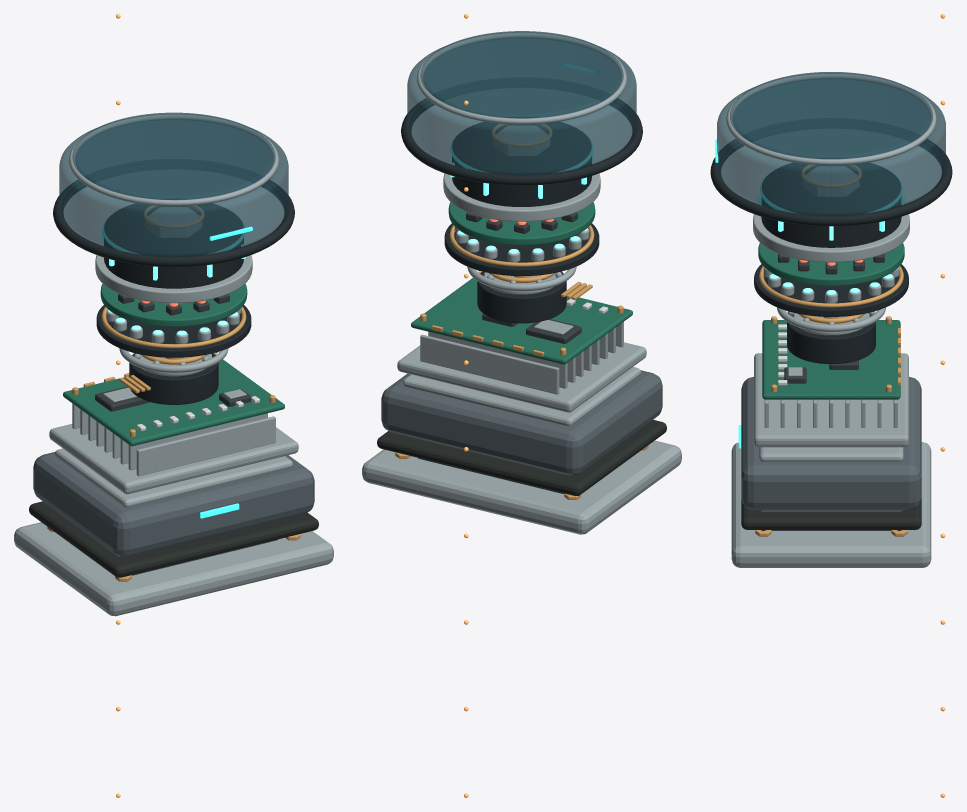
Rendered from lidar-assembled.glb.
3 renders of one model, left to right at view 1: azimuth 30°, elevation 25°; view 2: azimuth 150°, elevation 25°; view 3: azimuth 270°, elevation 25°, orthographic.
Visible parts, largest first — view 1: 烟熏透明圆筒防护罩, 顶部耐磨光学圆盖, 压铸铝下壳主体, CNC 铝合金安装脚, 旋转头黑色光学筒, 六层主控 PCB, 闭孔氟橡胶减振垫, 均热板, 散热鳍片 · 01, 罩体下缘黑色密封框, 底壳内腔台阶, 防护罩上缘压环 (+8 smaller); view 2: 烟熏透明圆筒防护罩, 压铸铝下壳主体, 顶部耐磨光学圆盖, CNC 铝合金安装脚, 旋转头黑色光学筒, 六层主控 PCB, 闭孔氟橡胶减振垫, 均热板, 散热鳍片 · 09, 罩体下缘黑色密封框, 底壳内腔台阶, 接收器载板 (+9 smaller); view 3: 烟熏透明圆筒防护罩, 顶部耐磨光学圆盖, 压铸铝下壳主体, CNC 铝合金安装脚, 均热板, 旋转头黑色光学筒, 六层主控 PCB, 罩体下缘黑色密封框, 闭孔氟橡胶减振垫, 防护罩上缘压环, 接收器载板, 激光器载板 (+6 smaller).
Part boxes in pixels (x1=…): 烟熏透明圆筒防护罩: x1=59, y1=119, x2=288, y2=256; 顶部耐磨光学圆盖: x1=72, y1=112, x2=275, y2=200; 压铸铝下壳主体: x1=33, y1=452, x2=314, y2=557; CNC 铝合金安装脚: x1=14, y1=522, x2=333, y2=616; 旋转头黑色光学筒: x1=104, y1=203, x2=243, y2=288; 六层主控 PCB: x1=63, y1=359, x2=284, y2=446; 闭孔氟橡胶减振垫: x1=29, y1=501, x2=318, y2=577; 均热板: x1=49, y1=424, x2=298, y2=494; 散热鳍片 · 01: x1=136, y1=416, x2=275, y2=476; 罩体下缘黑色密封框: x1=53, y1=180, x2=294, y2=266; 底壳内腔台阶: x1=55, y1=448, x2=292, y2=507; 防护罩上缘压环: x1=69, y1=114, x2=278, y2=206; 烟熏透明圆筒防护罩: x1=407, y1=38, x2=636, y2=174; 压铸铝下壳主体: x1=381, y1=370, x2=662, y2=475; 顶部耐磨光学圆盖: x1=420, y1=31, x2=623, y2=118; CNC 铝合金安装脚: x1=362, y1=440, x2=681, y2=534; 旋转头黑色光学筒: x1=452, y1=122, x2=591, y2=206; 六层主控 PCB: x1=411, y1=278, x2=632, y2=364; 闭孔氟橡胶减振垫: x1=377, y1=419, x2=666, y2=495; 均热板: x1=397, y1=342, x2=646, y2=412; 散热鳍片 · 09: x1=420, y1=334, x2=559, y2=394; 罩体下缘黑色密封框: x1=401, y1=98, x2=642, y2=185; 底壳内腔台阶: x1=403, y1=367, x2=640, y2=426; 接收器载板: x1=444, y1=223, x2=599, y2=276; 烟熏透明圆筒防护罩: x1=717, y1=78, x2=945, y2=215; 顶部耐磨光学圆盖: x1=730, y1=72, x2=932, y2=159; 压铸铝下壳主体: x1=741, y1=377, x2=921, y2=510; CNC 铝合金安装脚: x1=731, y1=442, x2=931, y2=567; 均热板: x1=754, y1=353, x2=908, y2=447; 旋转头黑色光学筒: x1=761, y1=163, x2=901, y2=247; 六层主控 PCB: x1=762, y1=320, x2=900, y2=399; 罩体下缘黑色密封框: x1=710, y1=139, x2=952, y2=226; 闭孔氟橡胶减振垫: x1=741, y1=498, x2=921, y2=529; 防护罩上缘压环: x1=726, y1=73, x2=936, y2=165; 接收器载板: x1=754, y1=264, x2=908, y2=316; 激光器载板: x1=758, y1=243, x2=904, y2=286.
Size of what is drawn, in the model's own units: 0.246 by 0.8144 by 0.228.
